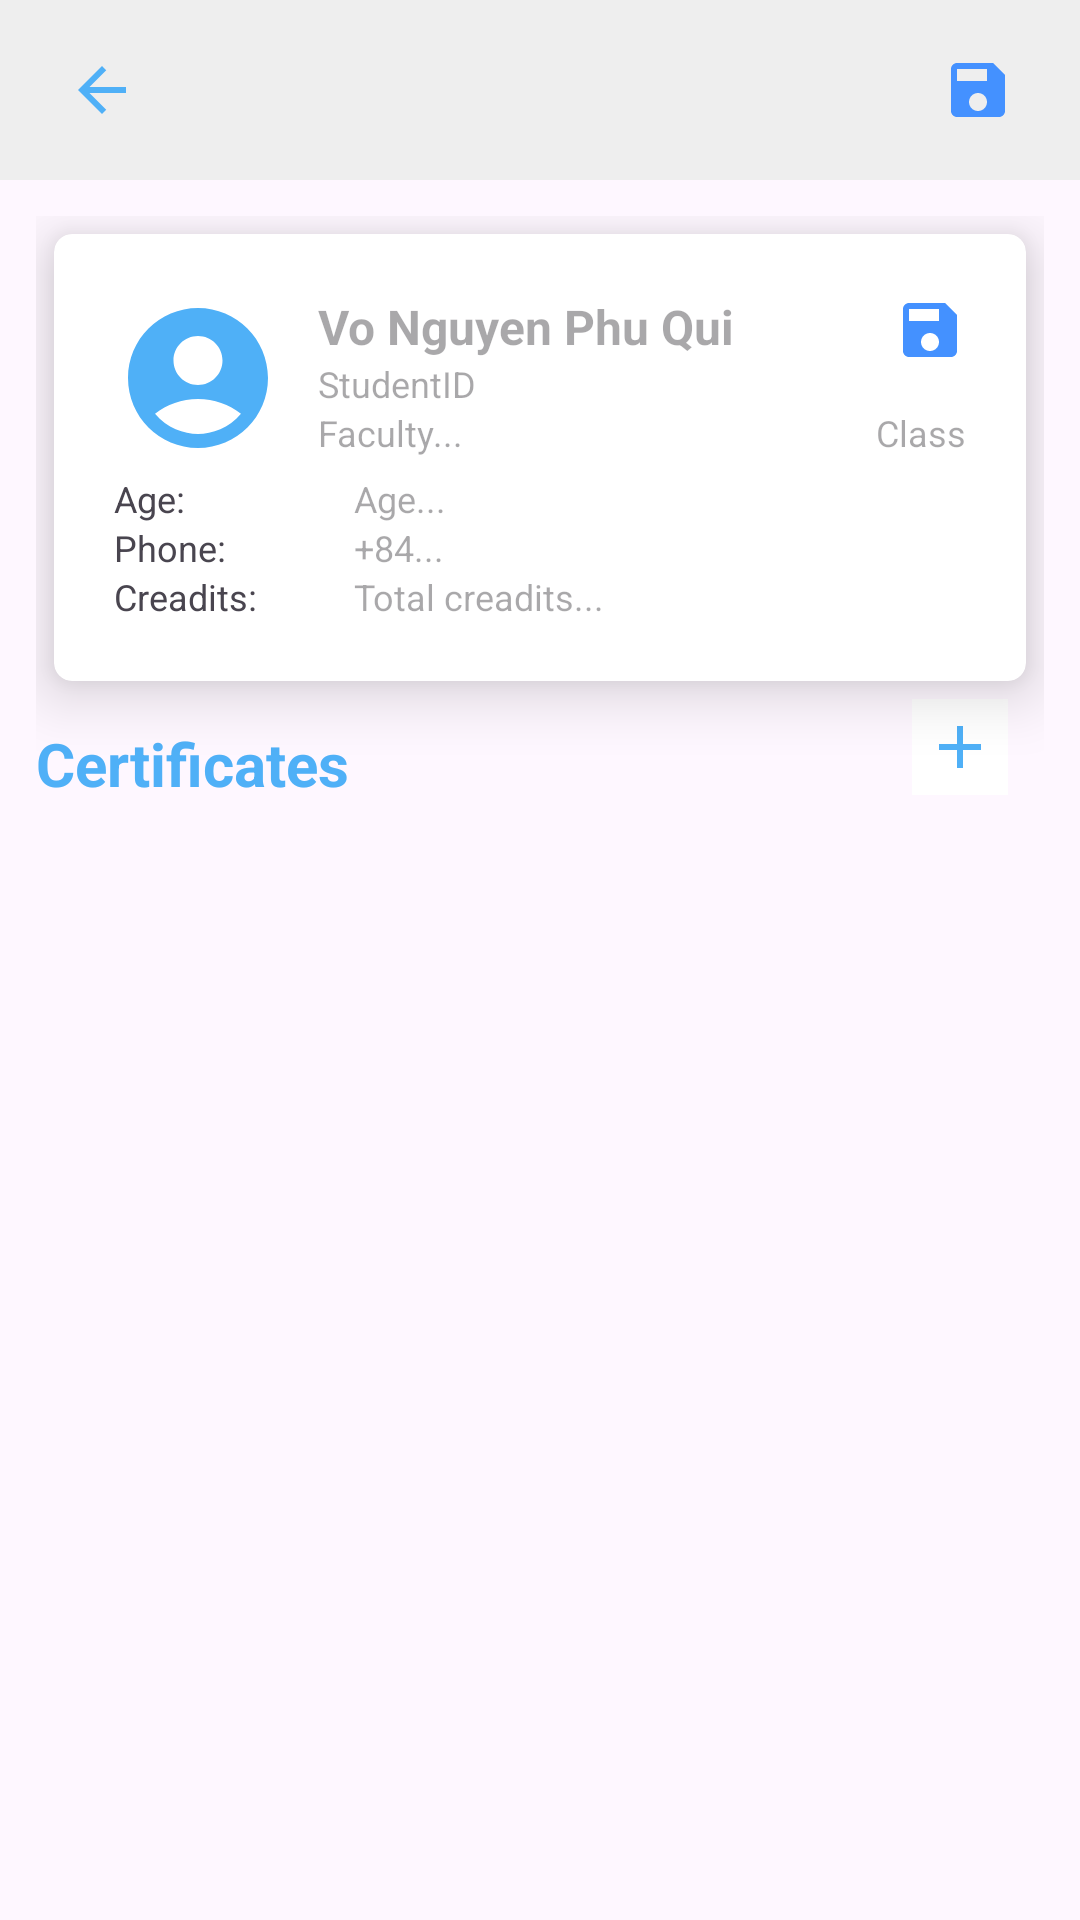

Named icons in this screenshot (1080*1920) and their bounding boxes, bbox(x1, y1, x2, y2):
add: bbox(939, 726, 981, 768)
back: bbox(78, 66, 126, 114)
user: bbox(128, 308, 268, 448)
